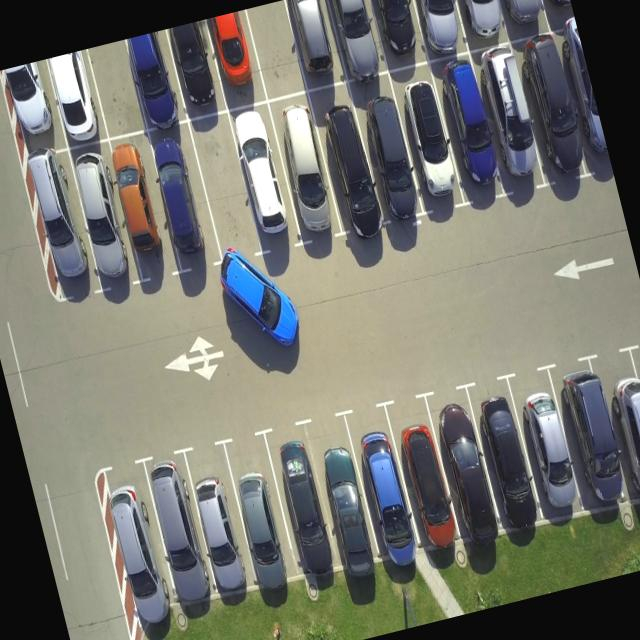car: (136, 445, 222, 617), (340, 400, 426, 570), (421, 380, 506, 550), (504, 362, 588, 526), (218, 427, 302, 590), (265, 90, 348, 251), (142, 119, 225, 278), (18, 145, 102, 300), (224, 98, 304, 258), (468, 44, 552, 193), (100, 129, 179, 287), (463, 370, 539, 530), (383, 389, 459, 547), (63, 140, 140, 294), (389, 67, 469, 215), (264, 416, 335, 577), (309, 91, 386, 237), (431, 50, 504, 199), (351, 84, 427, 224), (552, 357, 622, 507), (514, 33, 584, 179), (304, 414, 374, 560), (105, 462, 171, 614), (183, 438, 250, 580), (554, 31, 611, 172), (596, 357, 640, 521), (42, 48, 109, 148), (122, 29, 188, 130), (0, 59, 66, 159), (203, 9, 267, 110), (163, 19, 227, 120), (284, 0, 347, 89), (326, 0, 383, 80), (363, 0, 429, 69), (404, 0, 472, 59), (449, 0, 506, 53), (485, 0, 555, 39), (532, 0, 574, 24)
free: (184, 110, 264, 266), (242, 0, 309, 99), (82, 39, 146, 140)
